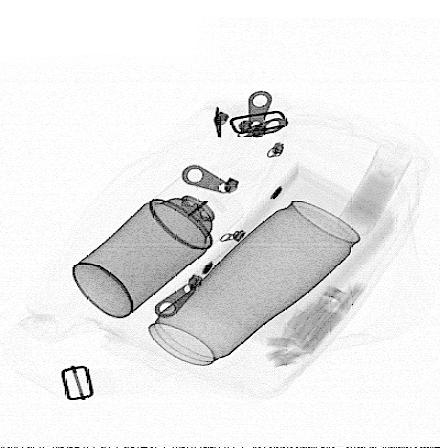Sprayer: (72, 165, 248, 318)
